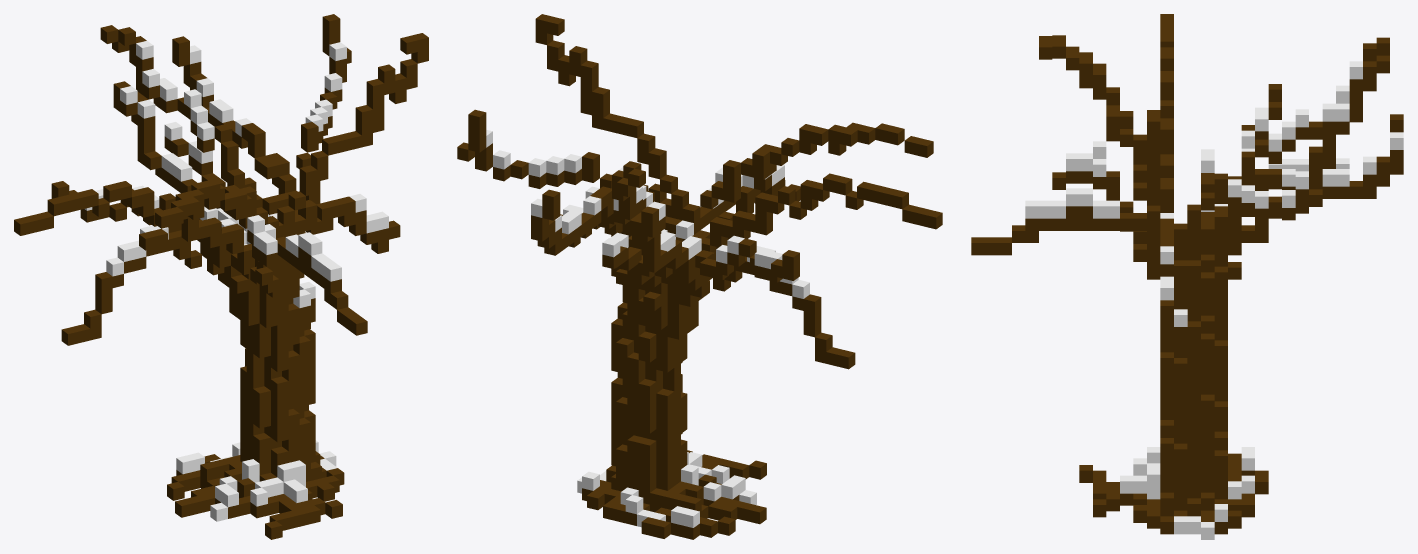
Rendered from deadTree.obj.
3 renders of one model, left to right at view 1: azimuth 30°, elevation 25°; view 2: azimuth 150°, elevation 25°; view 3: azimuth 270°, elevation 25°, orthographic. The views are drawn at different scales.
Parts seen in each view (by area): view 1: model_0.001; view 2: model_0.001; view 3: model_0.001.
Boxes of the visible parts, x1,y1,x2,y2 form: model_0.001: [14, 14, 428, 539]; model_0.001: [457, 14, 942, 539]; model_0.001: [971, 14, 1403, 539].
Bounding box in the file's own units: 18 × 18.5 × 16.
